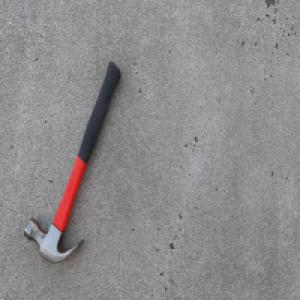Hammer: (23, 59, 122, 264)
